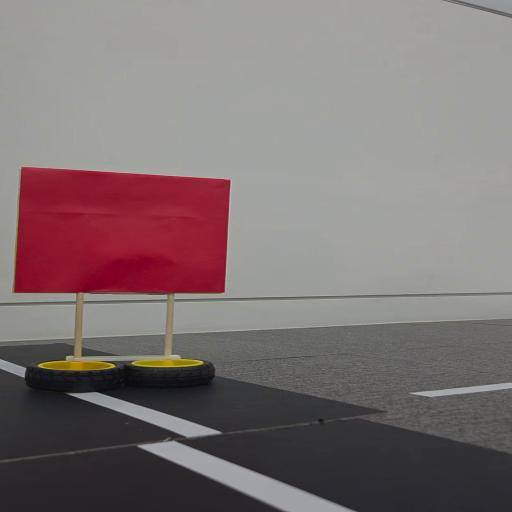Sign_A: (14, 162, 254, 398)
